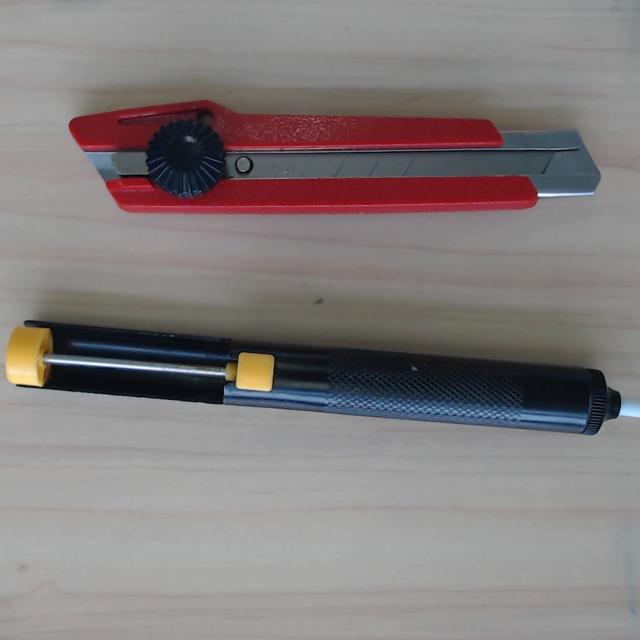Cutter-Besar: (70, 100, 600, 214)
